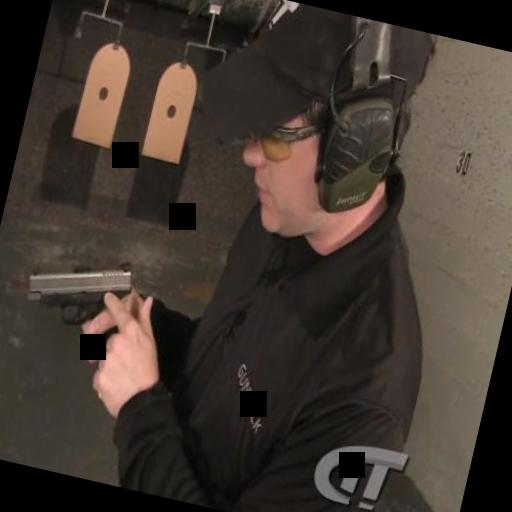Handgun: (12, 240, 144, 364)
